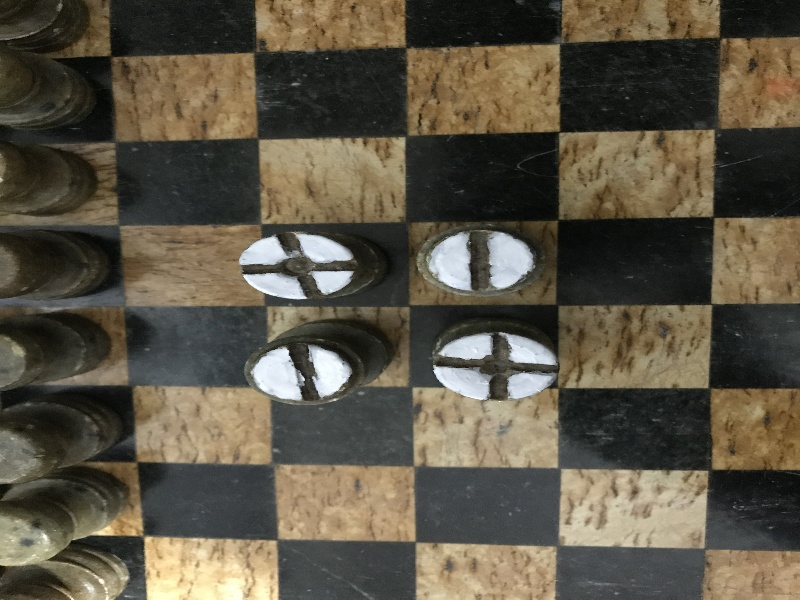WhiteBishop: (431, 319, 559, 402), (238, 230, 381, 300)
WhiteRook: (243, 317, 392, 403), (416, 222, 543, 297)
